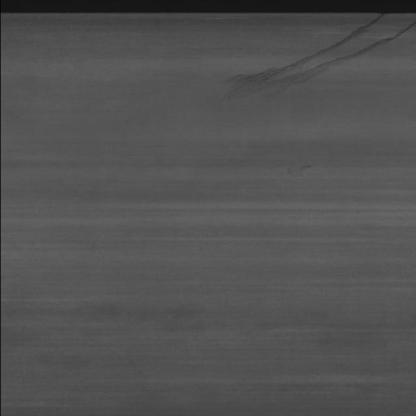water_spot: (215, 15, 416, 95)
